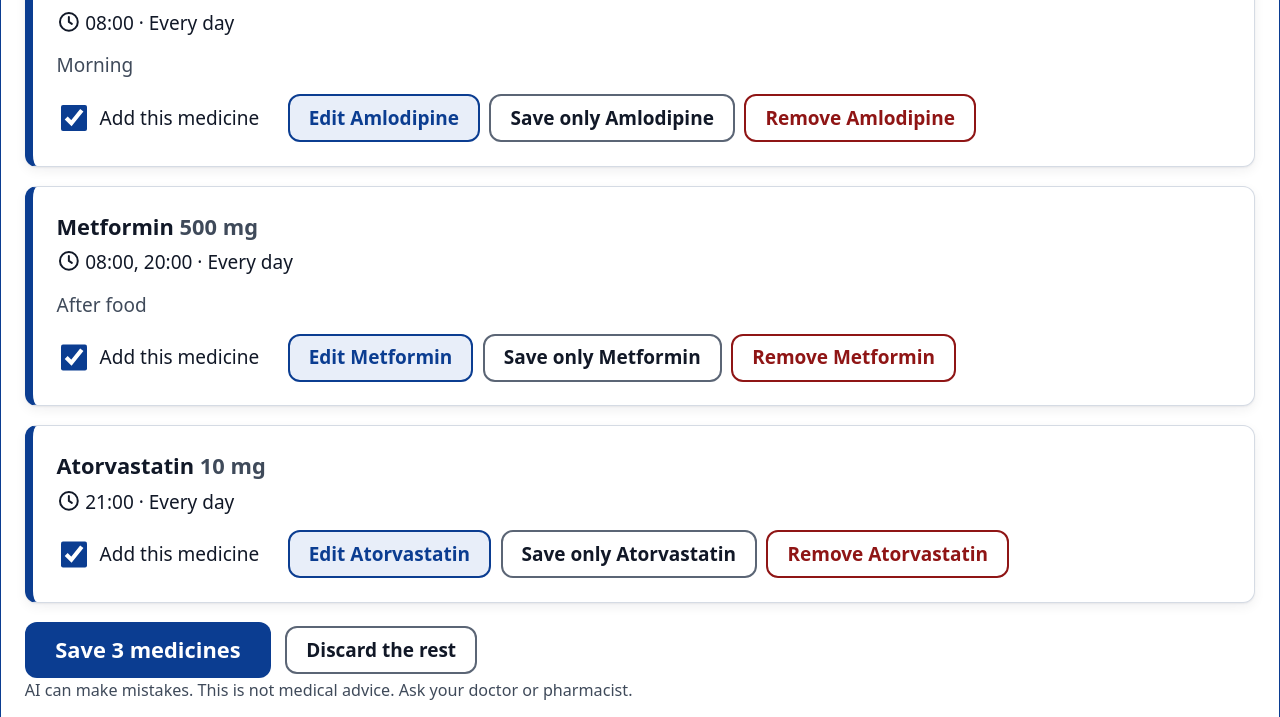
prescription scan review (bug: other drafts were lost after saving one) › saving one alone leaves the others in the list, still to be saved
The image size is (1280, 717).
Earlier steps of the test are not shown.
(page scrolled)
Click the button "Save only Metformin" at x=602, y=358, box [483,334,722,382]
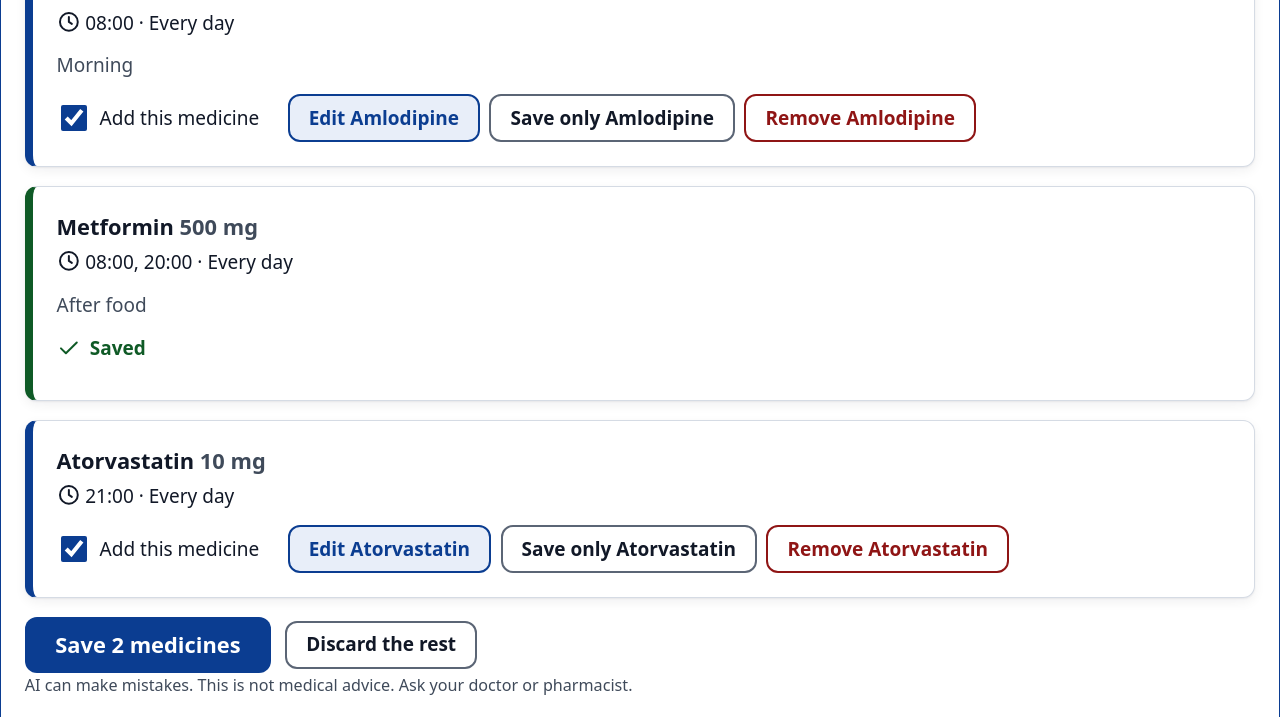
Expected: the button "Save 2 medicines" is shown, [25,617,271,673]
